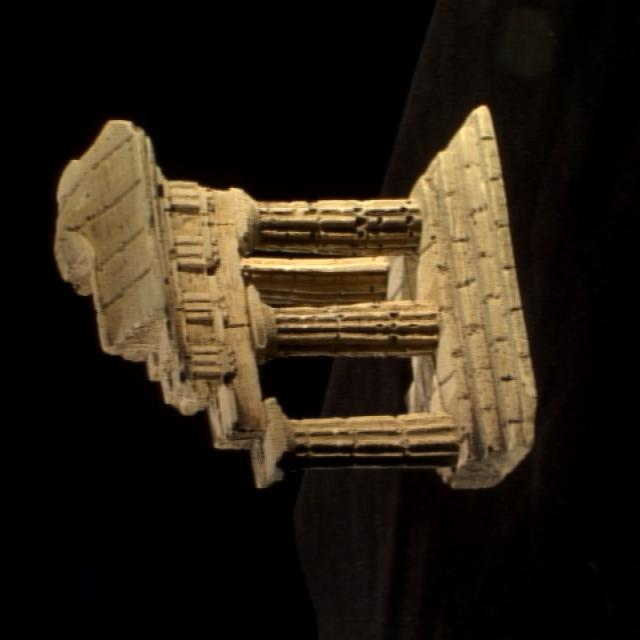Instance-Segmentation: (55, 105, 534, 487)
